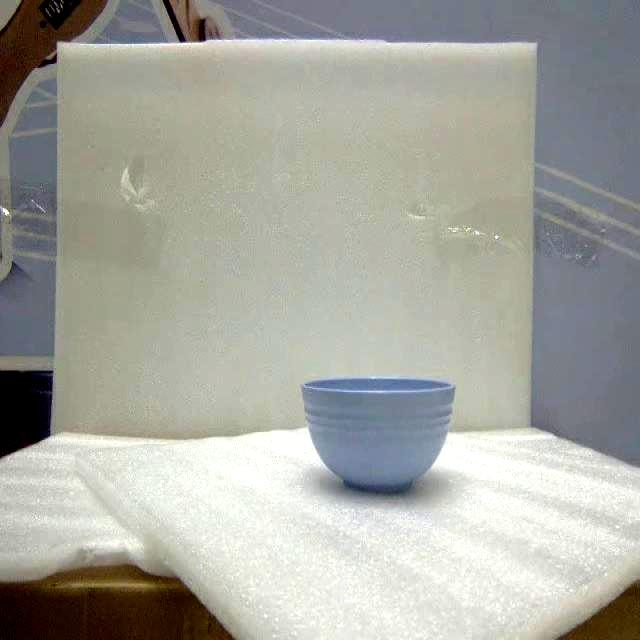Bowl: (301, 377, 454, 492)
